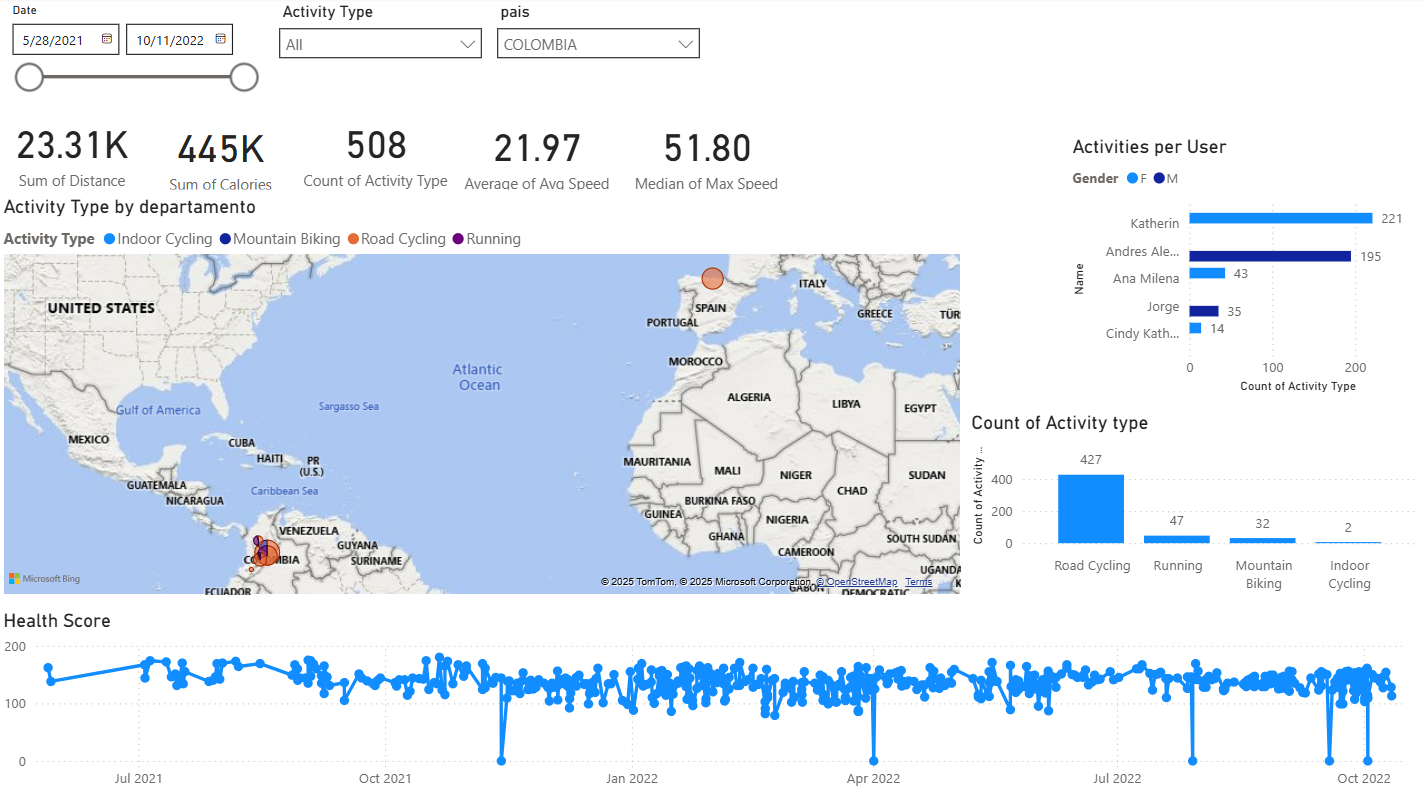

This screenshot's page, from the dashboard's own definition file:
{"tool":"powerbi","page":{"name":"Page 1  Activity Overview ","canvas":[1280,720],"ordinal":0},"visuals":[{"type":"lineChart","title":"Health Score","fields":{"Category":["BBDD.Date"],"Y":["Avg(BBDD.Avg HR)"]},"box":[0,549.4,1280.2,170.6],"z":0},{"type":"columnChart","title":"Count of Activity type","fields":{"Category":["BBDD.Activity Type"],"Y":["CountNonNull(BBDD.Activity Type)"]},"box":[869,371.7,411.2,169.7],"z":1000},{"type":"clusteredBarChart","title":"Activities per User","fields":{"Category":["dimUser.Name"],"Series":["dimUser.Gender"],"Y":["CountNonNull(BBDD.Activity Type)"]},"box":[959.7,123.9,320.5,236.1],"z":2000},{"type":"map","title":"Activity Type by departamento","fields":{"Category":["Codigos Codazzi.departamento"],"Size":["CountNonNull(BBDD.Activity Type)"],"Series":["BBDD.Activity Type"]},"box":[0,177.8,869,363.6],"z":3000},{"type":"card","fields":{"Values":["Sum(BBDD.Distance)"]},"box":[0,98.8,132.9,79],"z":4000},{"type":"card","fields":{"Values":["Sum(BBDD.Calories)"]},"box":[132.9,106.8,133.8,70.9],"z":5000},{"type":"card","fields":{"Values":["CountNonNull(BBDD.Activity Type)"]},"box":[266.6,98.8,144.5,79],"z":6000},{"type":"card","fields":{"Values":["Avg(BBDD.Avg Speed)"]},"box":[411.2,105,145.4,72.7],"z":7000},{"type":"card","fields":{"Values":["Median(BBDD.Max Speed)"]},"box":[556.6,105,158.9,72.7],"z":8000},{"type":"slicer","fields":{"Values":["BBDD.Date"]},"box":[0,0,242.4,98.8],"z":9000},{"type":"slicer","fields":{"Values":["BBDD.Activity Type"]},"box":[242.4,0,202,73.6],"z":10000},{"type":"slicer","fields":{"Values":["Codigos Codazzi.pais"]},"box":[438.1,0,202,73.6],"z":11000}]}

Visuals, with their boxes in screenshot pixels (x1, y1, x2, y2), scaled from the page's 1280x720 canvas onto the 1424x799 screenshot:
"Health Score" lineChart: 0 610 1423 798
"Count of Activity type" columnChart: 967 412 1423 601
"Activities per User" clusteredBarChart: 1068 137 1423 400
"Activity Type by departamento" map: 0 197 967 601
card - Sum(BBDD.Distance): 0 110 148 197
card - Sum(BBDD.Calories): 148 119 297 197
card - CountNonNull(BBDD.Activity Type): 297 110 457 197
card - Avg(BBDD.Avg Speed): 457 117 619 197
card - Median(BBDD.Max Speed): 619 117 796 197
slicer - BBDD.Date: 0 0 270 110
slicer - BBDD.Activity Type: 270 0 494 82
slicer - Codigos Codazzi.pais: 487 0 712 82
